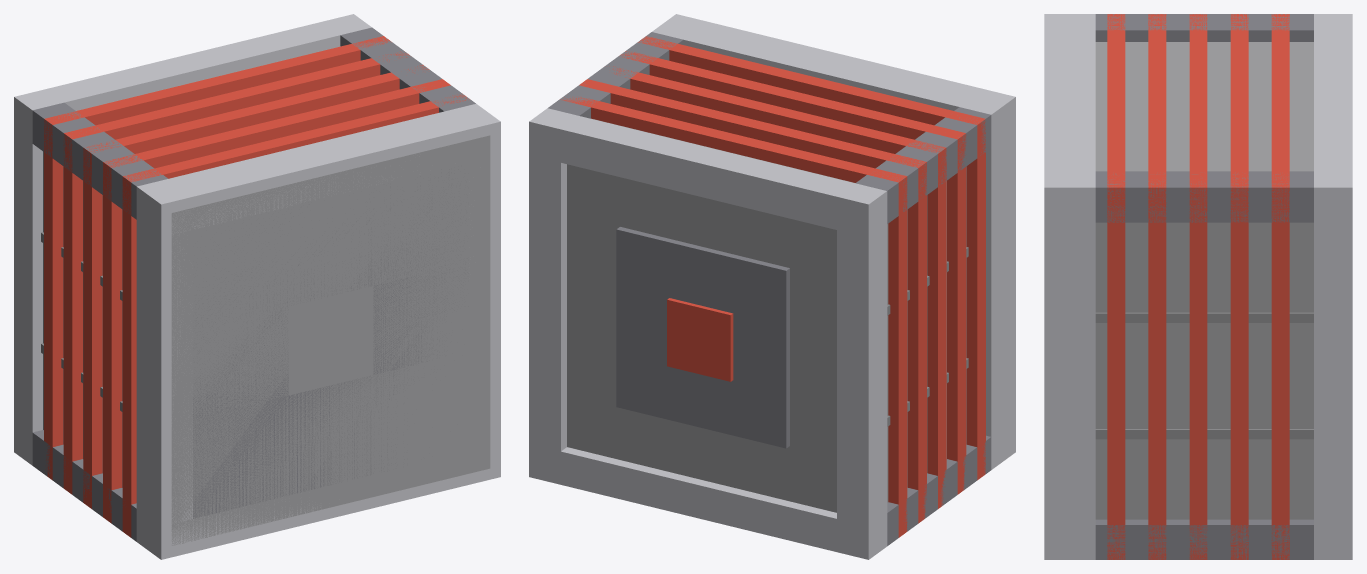
File: piston_5_on.gltf
3 views of the same model, side by side, from view 1: azimuth 30°, elevation 25°; view 2: azimuth 150°, elevation 25°; view 3: azimuth 270°, elevation 25° (orthographic). The views are drawn at different scales.
Parts seen in each view (by area): view 1: piston_5_on; view 2: piston_5_on; view 3: piston_5_on.
Boxes of the visible parts, x1,y1,x2,y2 form: piston_5_on: [14, 14, 500, 559]; piston_5_on: [529, 14, 1015, 559]; piston_5_on: [1044, 14, 1352, 559].
Size of the model in its own units: 1 by 1 by 0.75.
